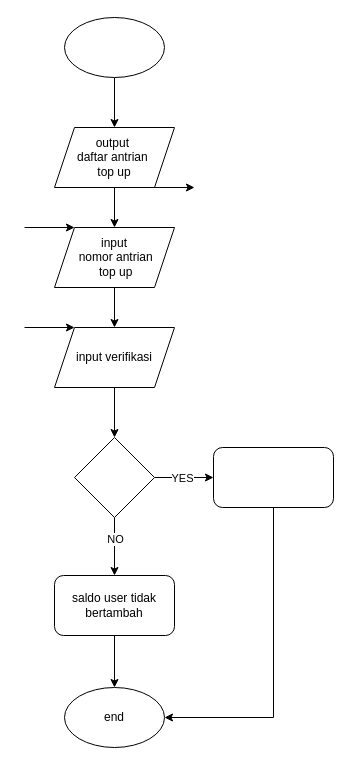
Some shapes in this 351 by 765 pixel diagram are drawn without their labels. The box of each missing label's shape, as (x1, y1, x2, y2) in pixels:
saldo user ditambahkan: (212, 446, 334, 508)
verifikasi == Y: (74, 436, 154, 518)
verifikasitopup: (64, 16, 164, 78)
